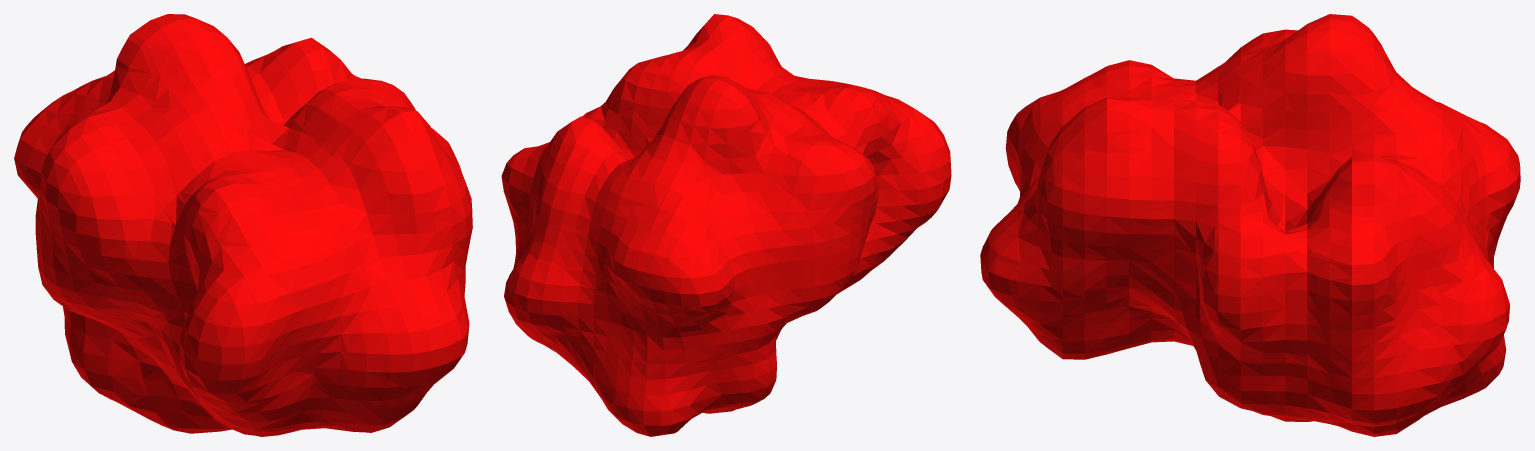
The model's file is rsmJ_coarse.dae.
3 views of the same model, side by side, from view 1: azimuth 30°, elevation 25°; view 2: azimuth 150°, elevation 25°; view 3: azimuth 270°, elevation 25° (orthographic). The views are drawn at different scales.
Visible parts, largest first — view 1: rsmJ; view 2: rsmJ; view 3: rsmJ.
Boxes of the visible parts, <box> form: rsmJ: <box>14,14,472,436</box>; rsmJ: <box>501,14,951,436</box>; rsmJ: <box>980,14,1520,436</box>.
Size of the model in its own units: 47.19 by 45.72 by 57.72.
